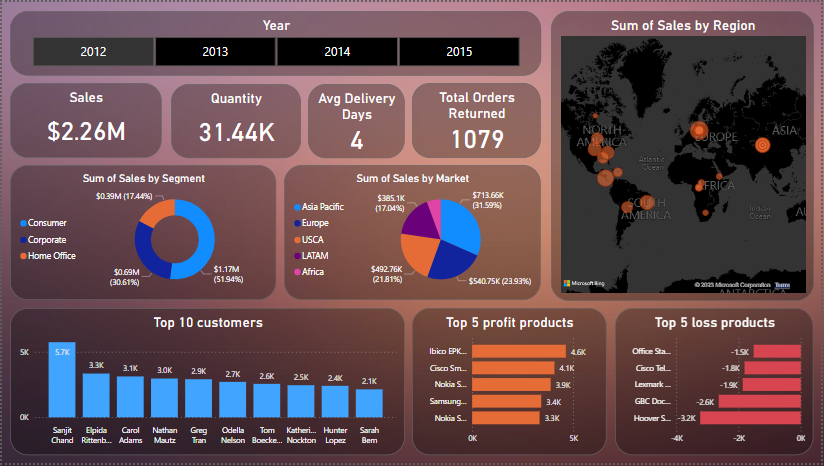

This screenshot's page, from the dashboard's own definition file:
{"tool":"powerbi","page":{"name":"Page 1","canvas":[1280,720],"ordinal":0},"visuals":[{"type":"card","title":"Sales","fields":{"Values":["Sum(Orders.Sales)"]},"box":[11.7,125.8,236.5,117.4],"z":0},{"type":"card","title":"Quantity","fields":{"Values":["Sum(Orders.Quantity)"]},"box":[263.4,127.5,203,115.8],"z":1000},{"type":"card","title":"Avg Delivery Days","fields":{"Values":["Avg(Orders.Delivery Days)"]},"box":[478.1,127.5,151,115.8],"z":2000},{"type":"slicer","title":"Year","fields":{"Values":["Orders.Year"]},"box":[11.7,13.4,830.4,100.7],"z":3000},{"type":"card","title":"Total Orders Returned","fields":{"Values":["Sum(Returns.Return Orders)"]},"box":[640.8,125.8,201.3,117.4],"z":4000},{"type":"map","fields":{"Size":["Sum(Orders.Sales)"],"Category":["Orders.Region"]},"box":[857.2,13.4,411,452.9],"z":5000},{"type":"barChart","title":"Top 5 profit products","fields":{"Y":["Sum(Orders.Profit)"],"Category":["Orders.Product Name"]},"box":[640.8,478.1,303.6,229.8],"z":6000},{"type":"barChart","title":"Top 5 loss products","fields":{"Y":["Sum(Orders.Profit)"],"Category":["Orders.Product Name"]},"box":[957.9,478.1,310.4,229.8],"z":7000},{"type":"pieChart","fields":{"Y":["Sum(Orders.Sales)"],"Category":["Orders.Market"]},"box":[441.2,255,400.9,211.4],"z":8000},{"type":"donutChart","fields":{"Category":["Orders.Segment"],"Y":["Sum(Orders.Sales)"]},"box":[11.7,255,416,211.4],"z":9000},{"type":"columnChart","title":"Top 10 customers","fields":{"Y":["Sum(Orders.Profit)"],"Category":["Orders.Customer Name"]},"box":[11.7,478.1,617.4,229.8],"z":10000}]}

Visuals, with their boxes in screenshot pixels (x1, y1, x2, y2), scaled from the page's 1280x720 canvas onto the 824x466 screenshot:
"Sales" card: <box>8,81,160,157</box>
"Quantity" card: <box>170,83,300,157</box>
"Avg Delivery Days" card: <box>308,83,405,157</box>
"Year" slicer: <box>8,9,542,74</box>
"Total Orders Returned" card: <box>413,81,542,157</box>
map - Sum(Orders.Sales) x Orders.Region: <box>552,9,816,302</box>
"Top 5 profit products" barChart: <box>413,309,608,458</box>
"Top 5 loss products" barChart: <box>617,309,816,458</box>
pieChart - Sum(Orders.Sales) x Orders.Market: <box>284,165,542,302</box>
donutChart - Orders.Segment x Sum(Orders.Sales): <box>8,165,275,302</box>
"Top 10 customers" columnChart: <box>8,309,405,458</box>
